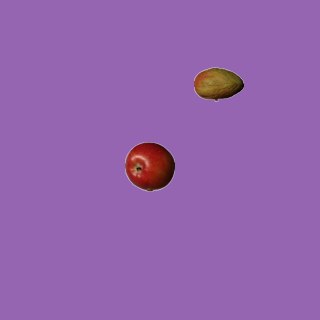Apple Braeburn: (124, 141, 174, 191)
Papaya: (193, 59, 243, 109)
